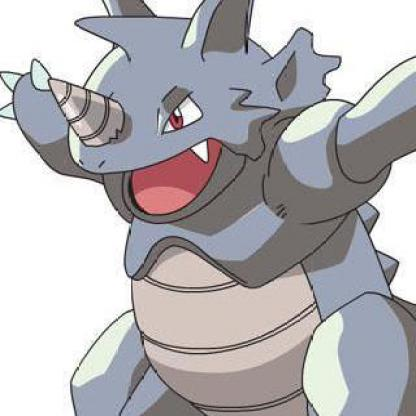Rhydon: (1, 1, 416, 416)
